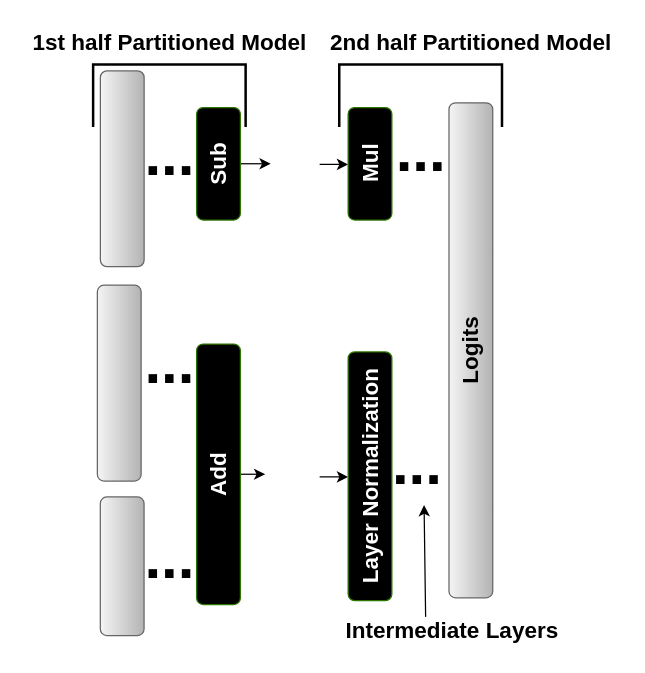
Some shapes in this 645 by 673 pixel diagram are drawn without their labels. The shapes that lost their labels are listed below. From the top down, each one's box as (x1, y1, x2, y2) in pixels, then its label:
(99, 70, 144, 267): attention_mask
(96, 284, 141, 481): token_type_ids
(99, 496, 144, 636): Input_ids
